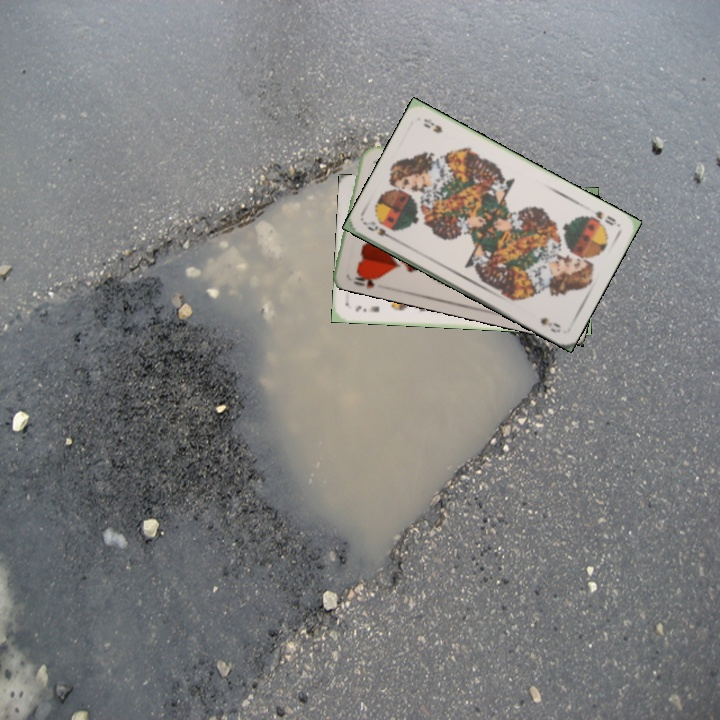E7: (352, 302, 381, 315)
HO: (350, 267, 383, 291)
SO: (361, 217, 399, 244), (586, 207, 622, 229)
